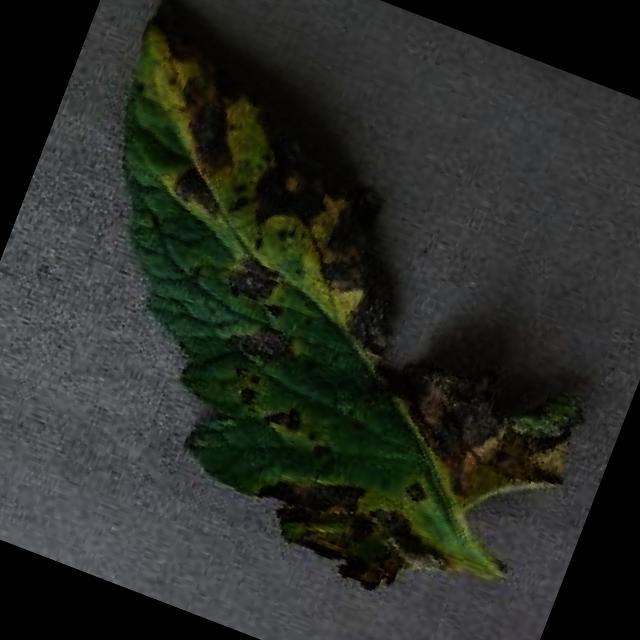Tomato Early blight leaf: (0, 13, 640, 639)
